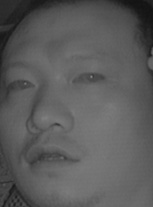eye: (73, 66, 105, 88), (6, 74, 37, 96)
mouth: (21, 138, 83, 175)
